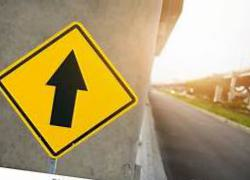forward: (2, 22, 138, 160)
